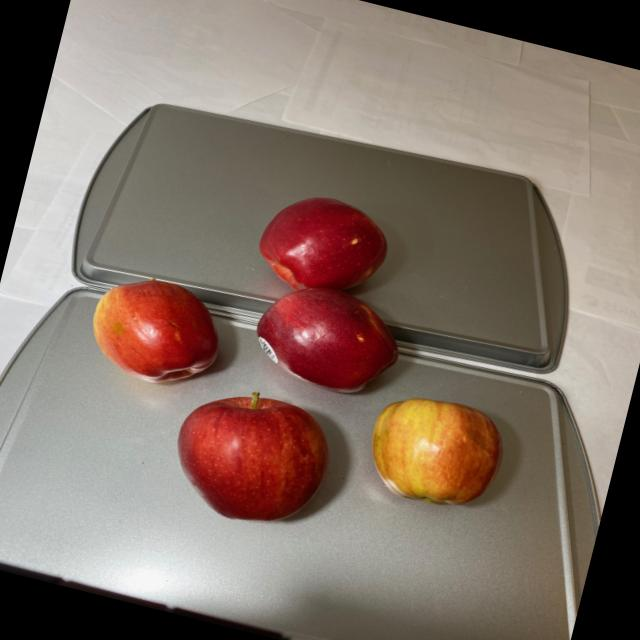apple: (48, 151, 551, 579)
